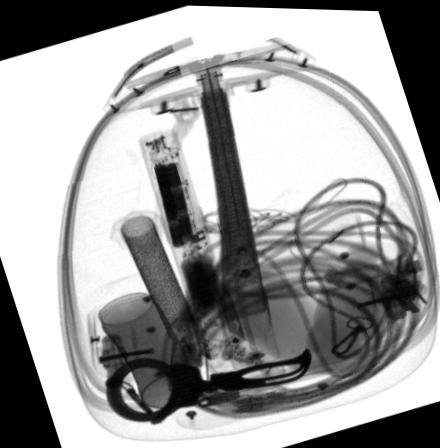Baton: (138, 128, 246, 355)
HandCuffs: (103, 344, 313, 423)
